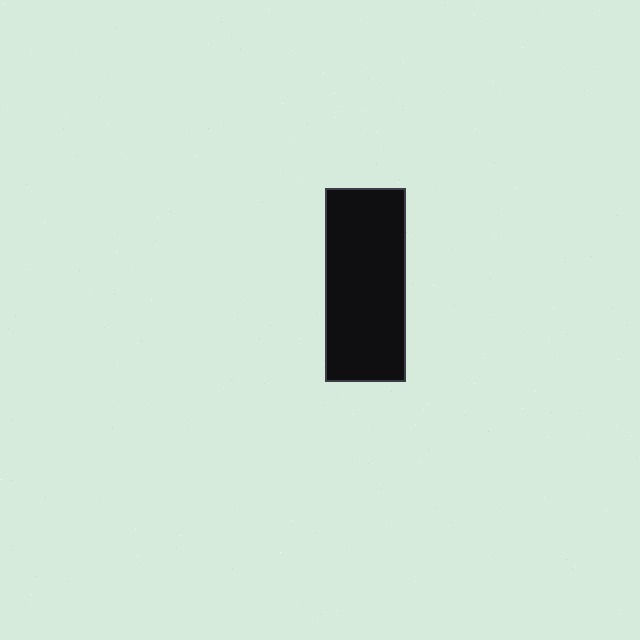phone: (325, 188, 485, 381)
